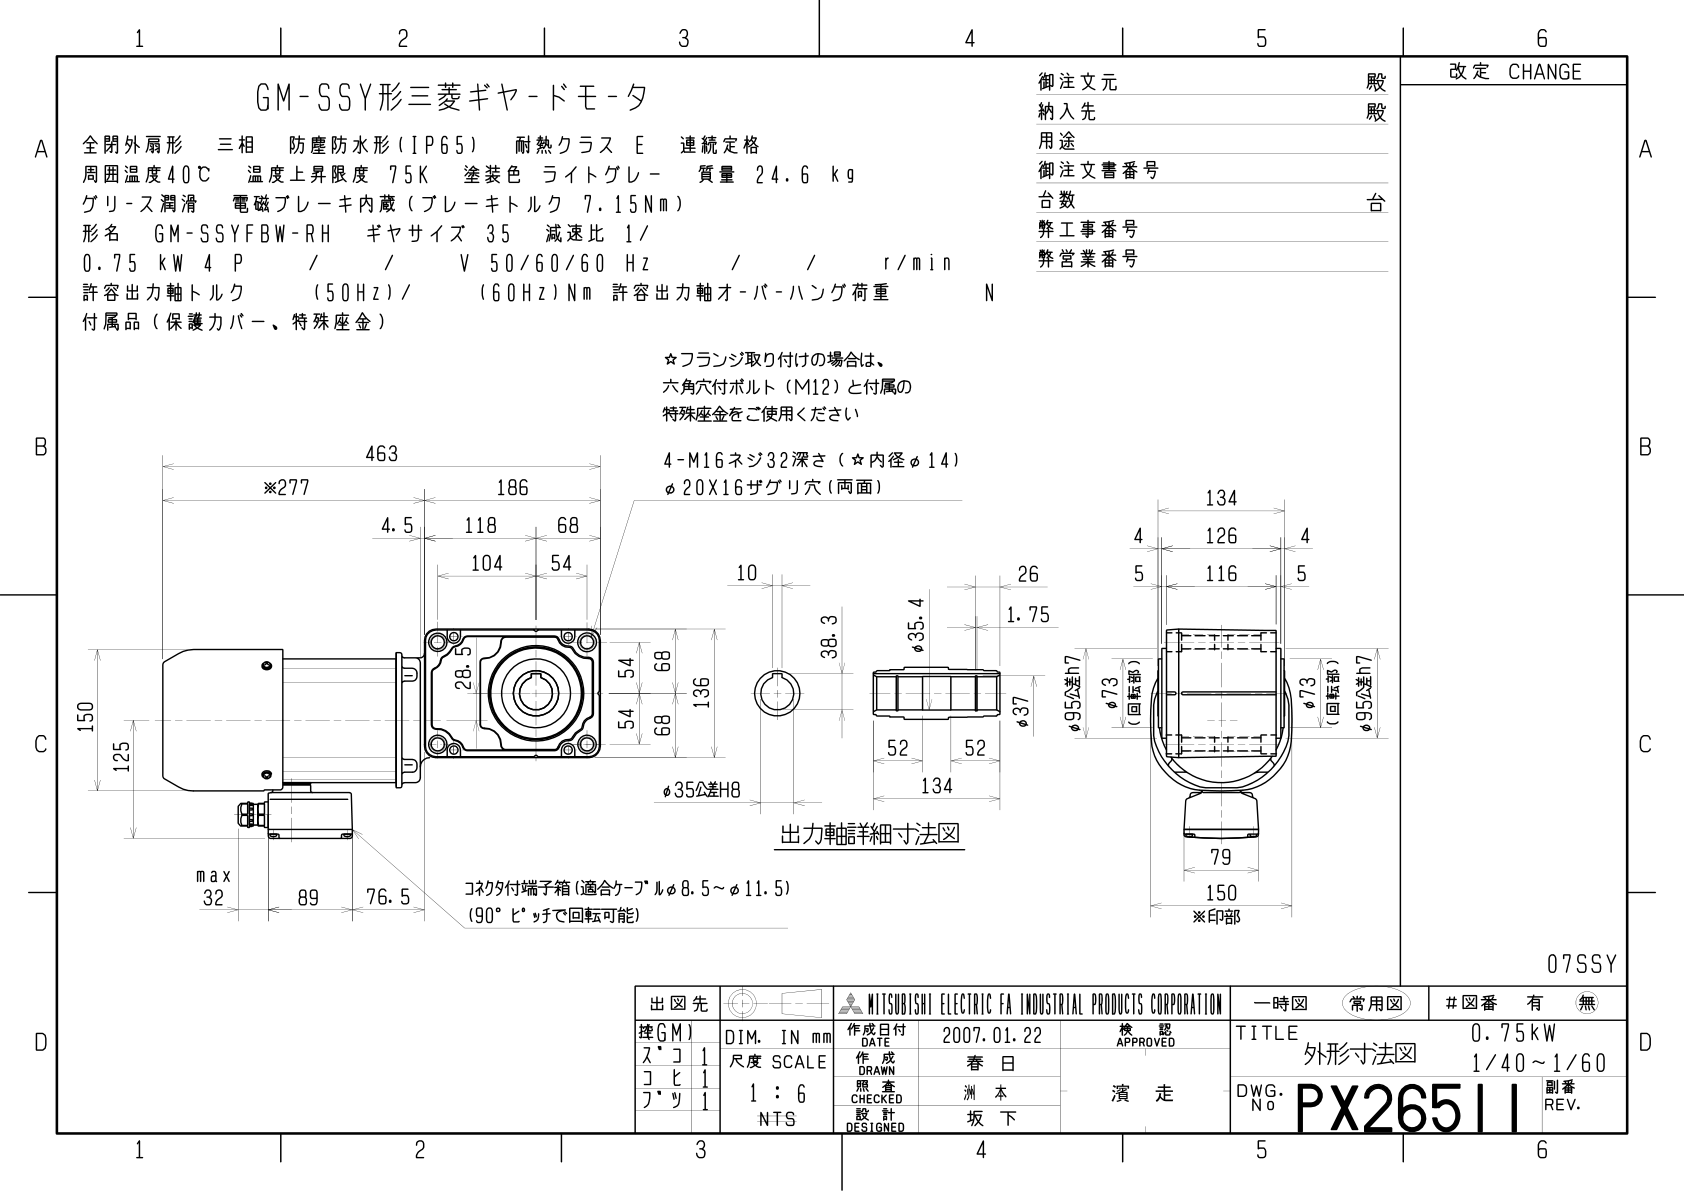GM_SSY_IP65_三相: (70, 349, 1393, 967)
